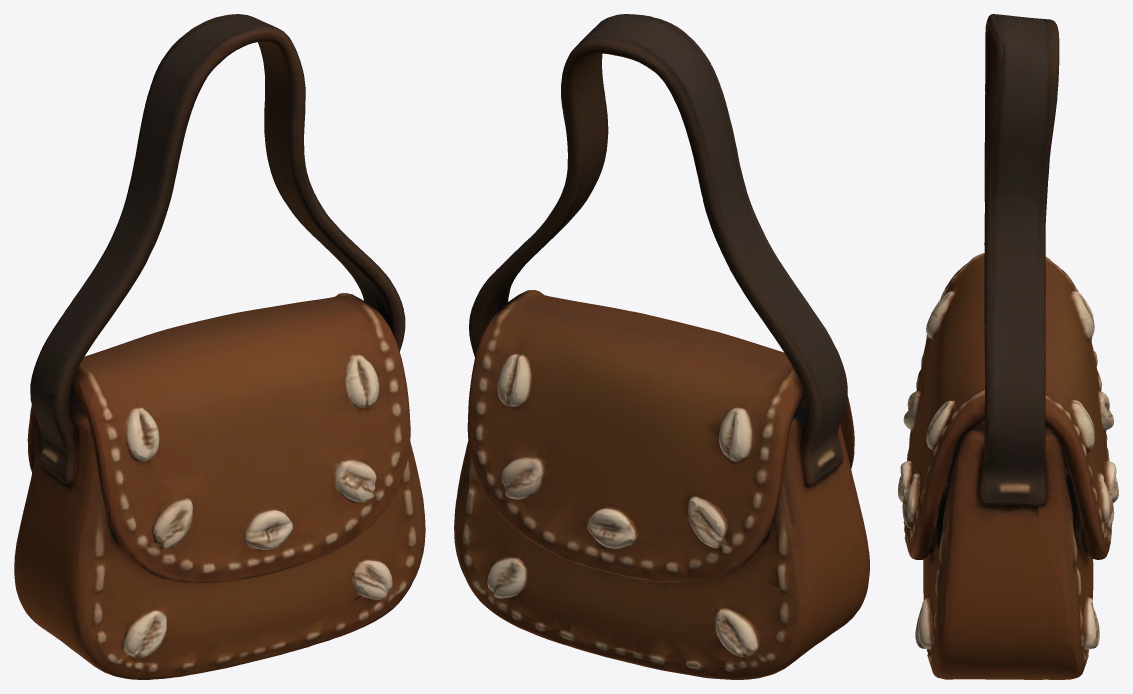
File: cowrie_purse.glb
The picture shows the model from 3 angles, left to right: view 1: azimuth 30°, elevation 25°; view 2: azimuth 150°, elevation 25°; view 3: azimuth 270°, elevation 25°; orthographic projection.
Visible parts, largest first — view 1: geometry_0; view 2: geometry_0; view 3: geometry_0.
Boxes of the visible parts, <box> form: geometry_0: <box>14,14,425,679</box>; geometry_0: <box>454,14,869,679</box>; geometry_0: <box>898,14,1118,679</box>.
Size of the model in its own units: 0.2148 by 0.35 by 0.1137.
Materials: 1 (1 with a texture image).
